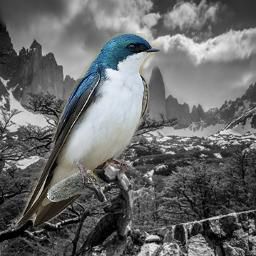Swallow: (15, 33, 162, 231)
